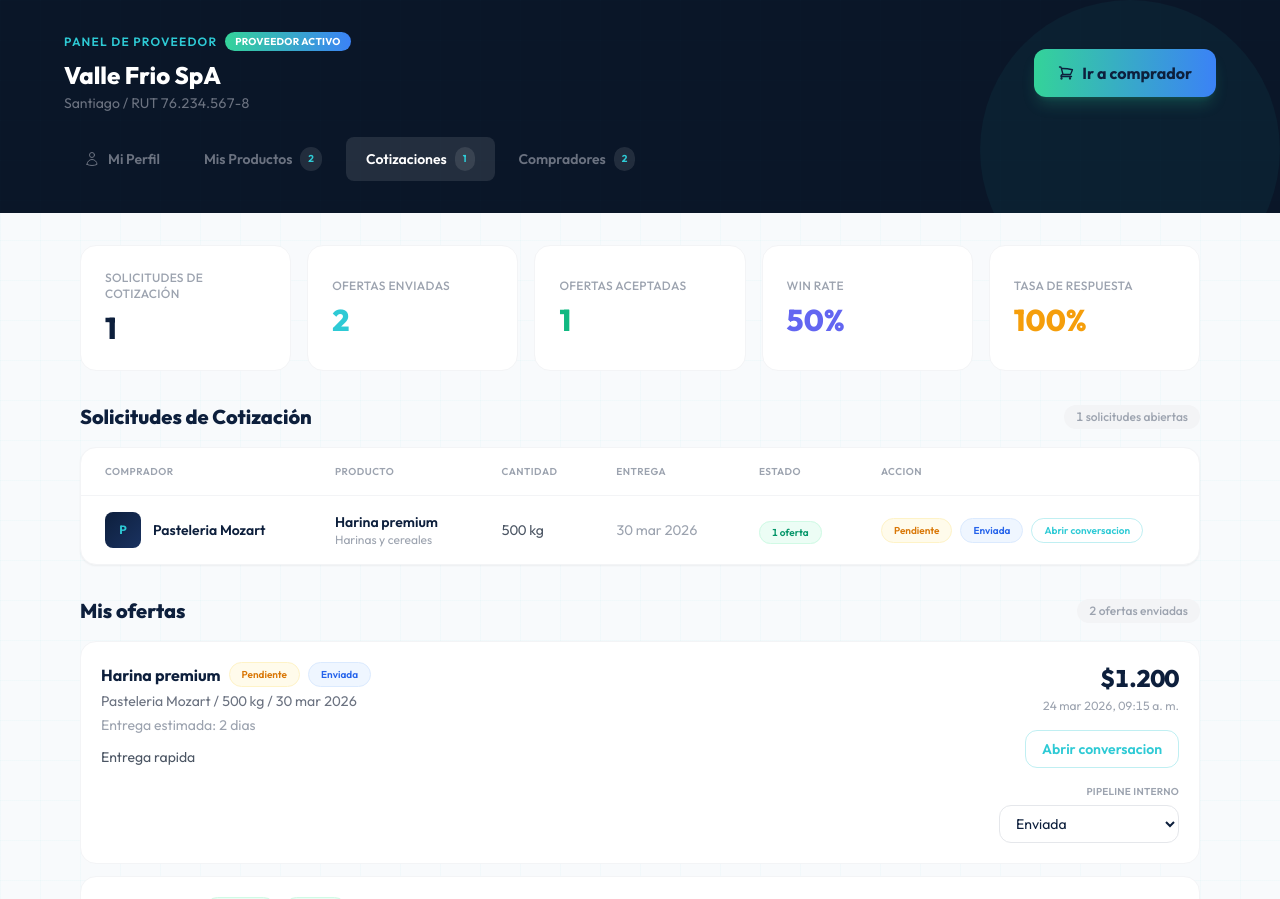
Test: SupplierDashboard › muestra summary y cartera buyer desde datos reales sin exponer planes
The width and height of the screenshot is (1280, 899).
Expected: the text "Win rate" is shown, top-left (787, 278), bottom-right (844, 293)
Expected: the text "50%" is shown, top-left (787, 301), bottom-right (845, 339)
Click the button "Compradores 2": (577, 159) top-left (498, 137), bottom-right (655, 181)
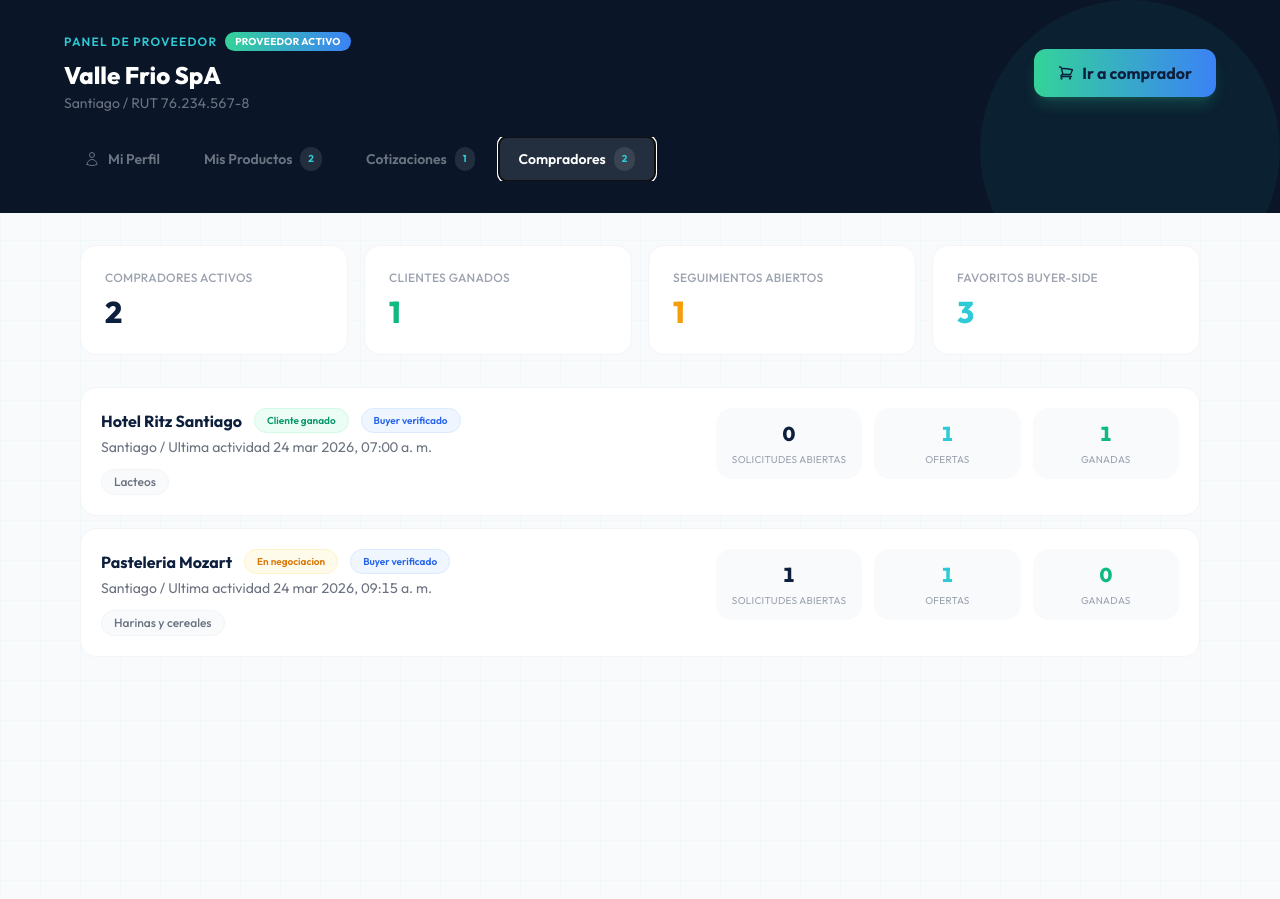
Expected: the heading "Pasteleria Mozart" is shown, top-left (101, 550), bottom-right (232, 574)
Expected: the heading "Hotel Ritz Santiago" is shown, top-left (101, 408), bottom-right (242, 432)
Expected: the text "Cliente ganado" is shown, top-left (254, 408), bottom-right (349, 433)
